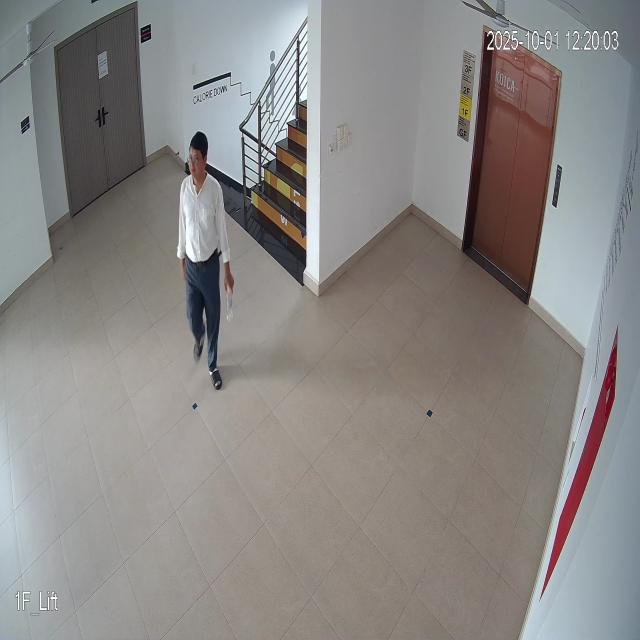face: (187, 126, 210, 189)
